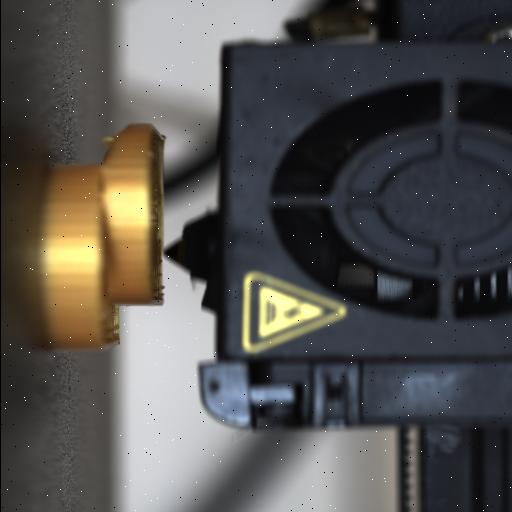layer_shift: (96, 124, 130, 356)
